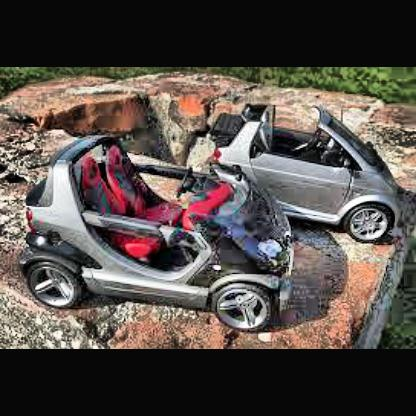smart fortwo Convertible 2012: (23, 136, 298, 336)
